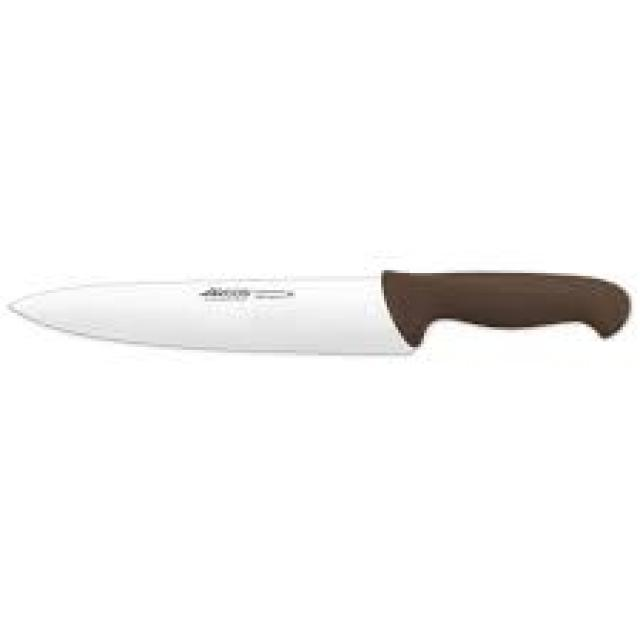Knife: (6, 267, 631, 356)
